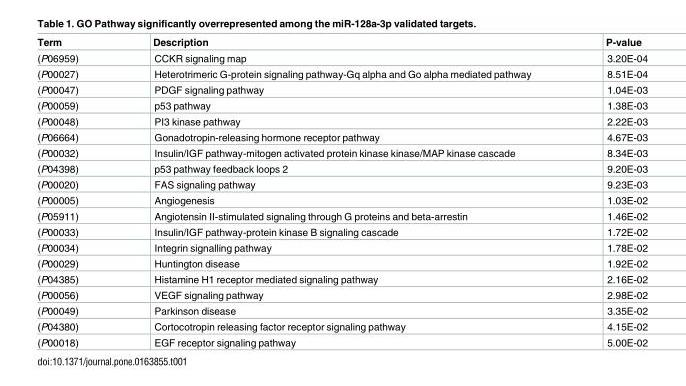table: (36, 37, 646, 347)
table column: (114, 37, 567, 347), (567, 37, 646, 347), (36, 37, 114, 347)
table column header: (36, 37, 646, 50)
table row: (36, 50, 646, 66), (36, 66, 646, 82), (36, 97, 646, 113), (36, 113, 646, 129), (36, 129, 646, 145), (36, 145, 646, 161), (36, 176, 646, 192), (36, 192, 646, 208), (36, 208, 646, 224), (36, 224, 646, 240), (36, 255, 646, 271), (36, 271, 646, 287), (36, 287, 646, 303), (36, 318, 646, 334), (36, 82, 646, 97), (36, 161, 646, 176), (36, 240, 646, 255), (36, 303, 646, 318), (36, 37, 646, 50), (36, 334, 646, 347)
